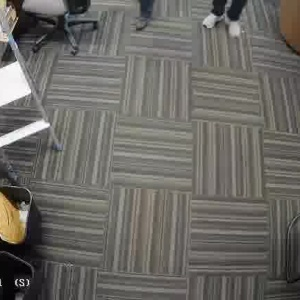person: (200, 0, 252, 42)
